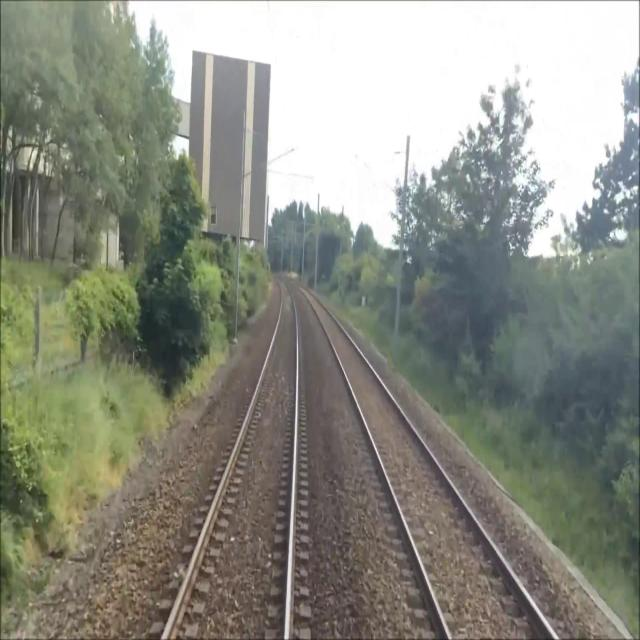rail-track: (300, 286, 553, 639), (166, 279, 296, 639)
